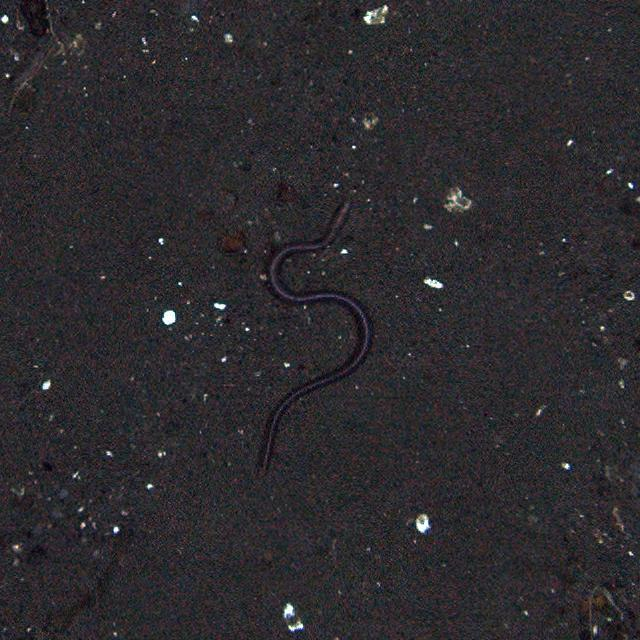eel: (262, 203, 372, 477)
